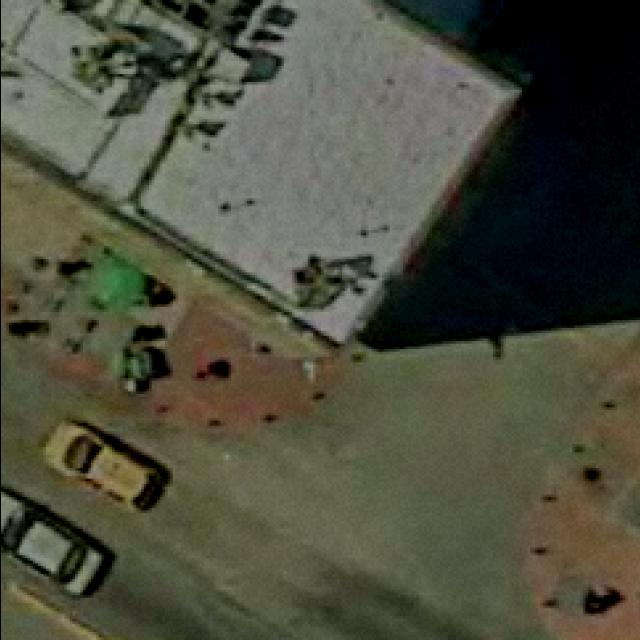vendedor_ambulante: (84, 254, 150, 316)
